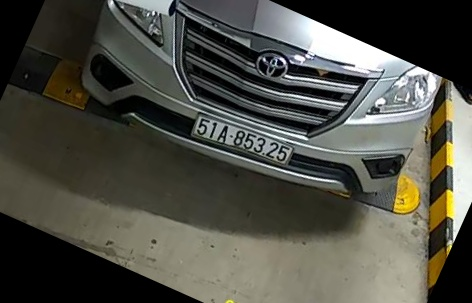plate: (187, 113, 293, 170)
